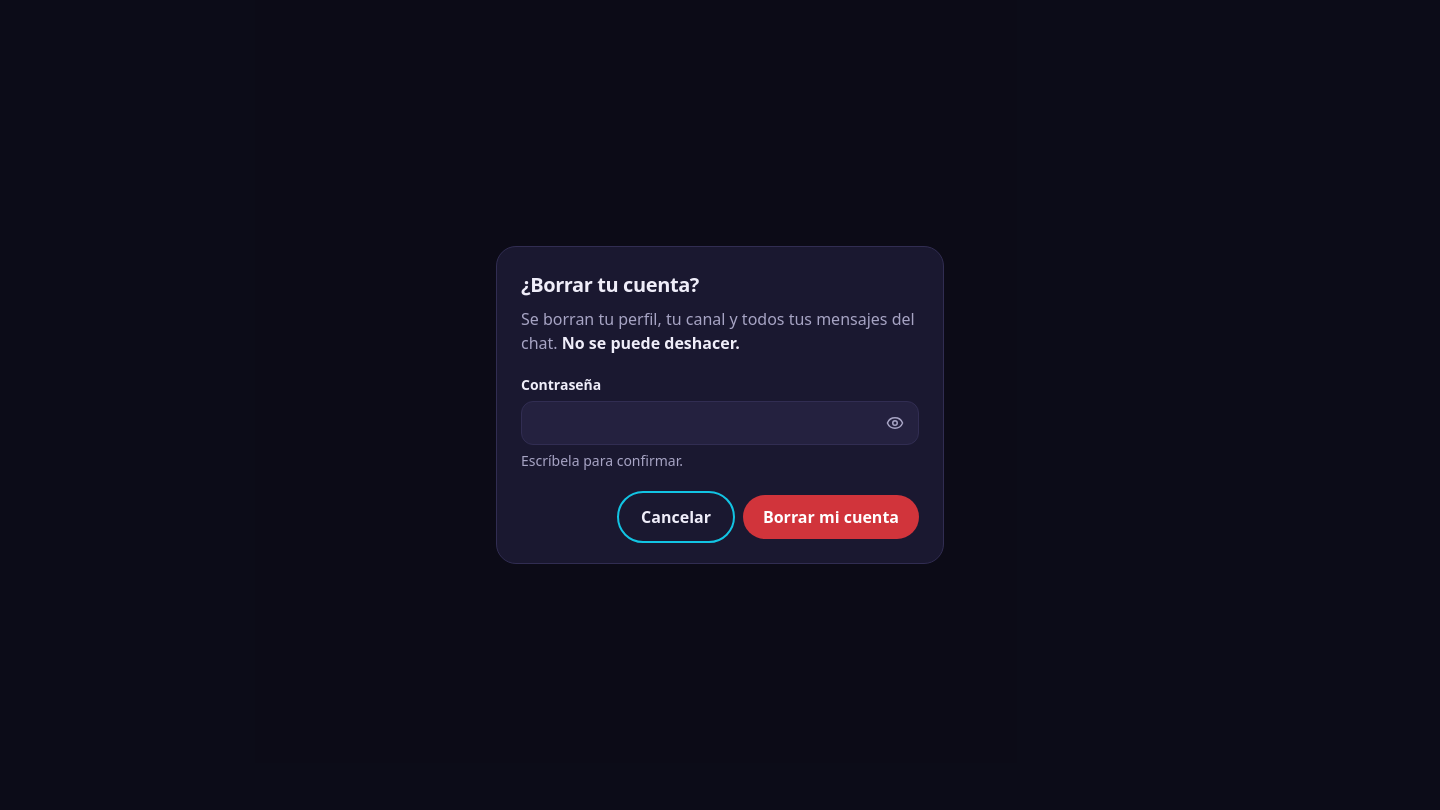
Scenario: DeleteAccountModal › al borrar: clearSession(true), vacía la caché privada y avisa
Type "secreta1" into the password field labelled "Contraseña" at [720, 423], box top-left (521, 401), bottom-right (919, 445)
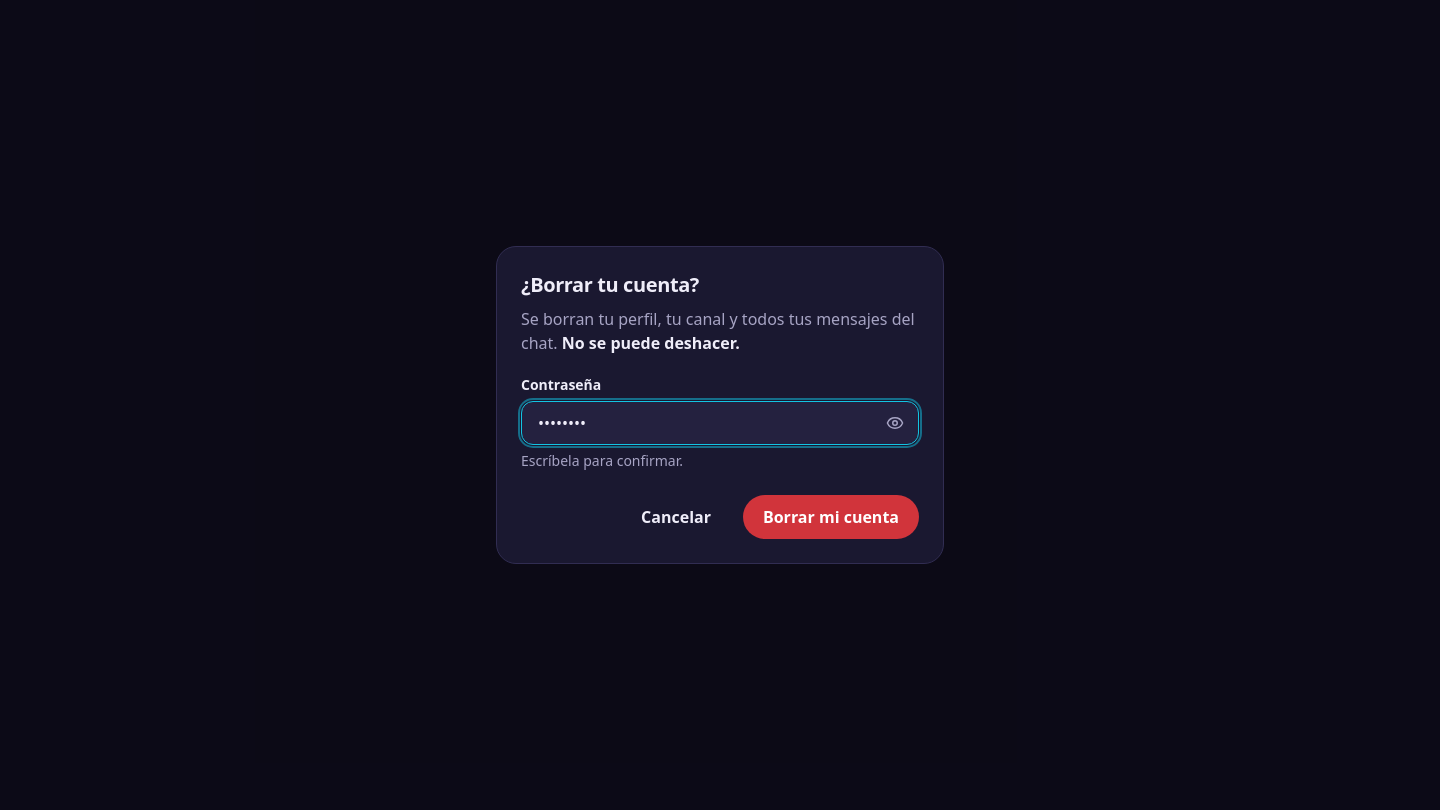
Click the button "Borrar mi cuenta" at [831, 517], box top-left (743, 495), bottom-right (919, 539)
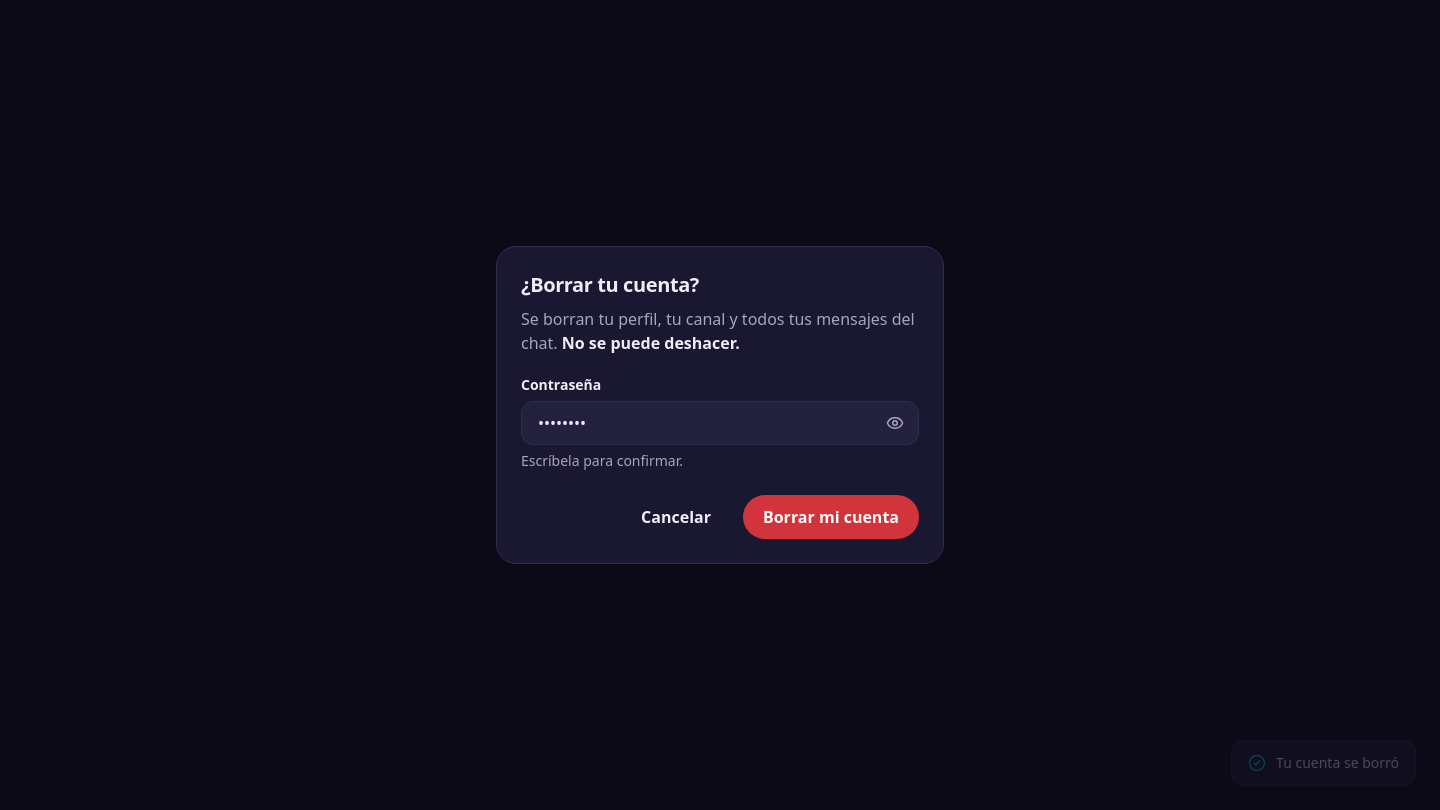
expect the text "Tu cuenta se borró" is shown: met, box top-left (1231, 740), bottom-right (1416, 786)
